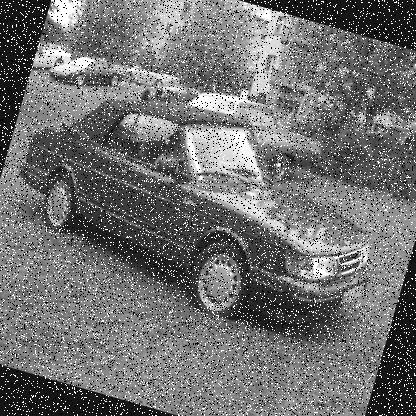Car: (0, 40, 409, 356)
